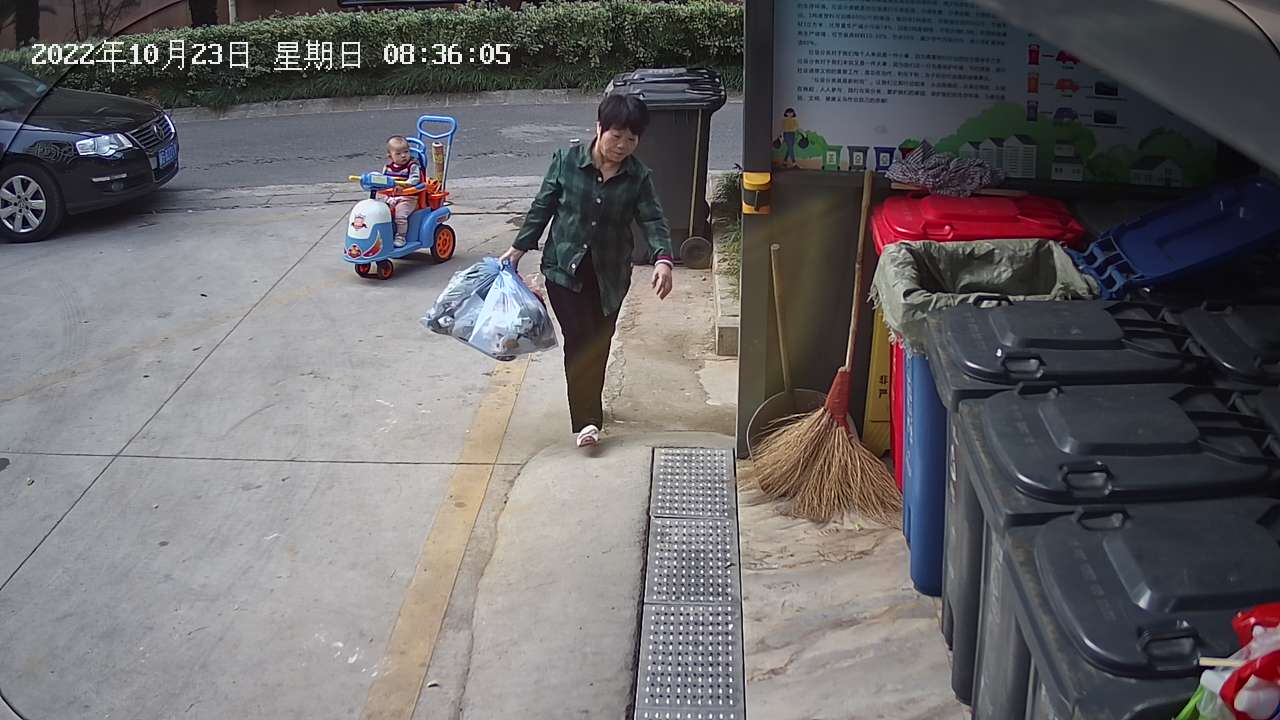garbage-bag: (415, 251, 563, 366)
person: (492, 91, 681, 451), (353, 132, 427, 256)
